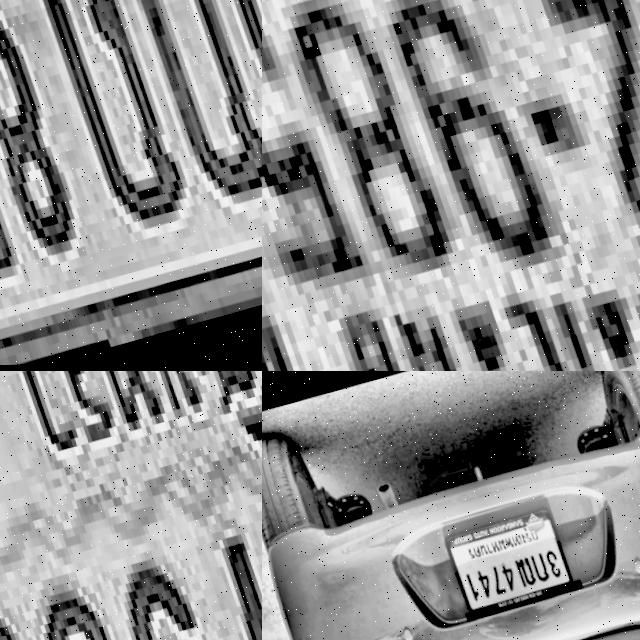license-plate: (262, 0, 640, 371), (0, 0, 262, 371), (0, 371, 262, 640), (435, 503, 574, 619)
